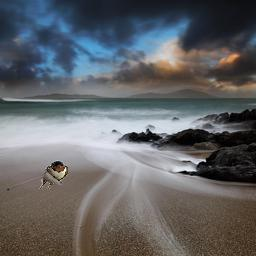Swallow: (40, 161, 69, 190)
